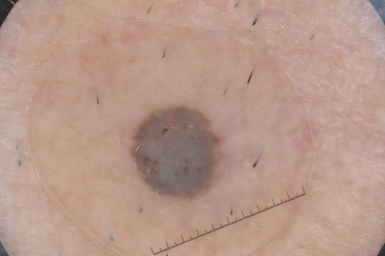seborrheic keratosis: (119, 102, 241, 205)
